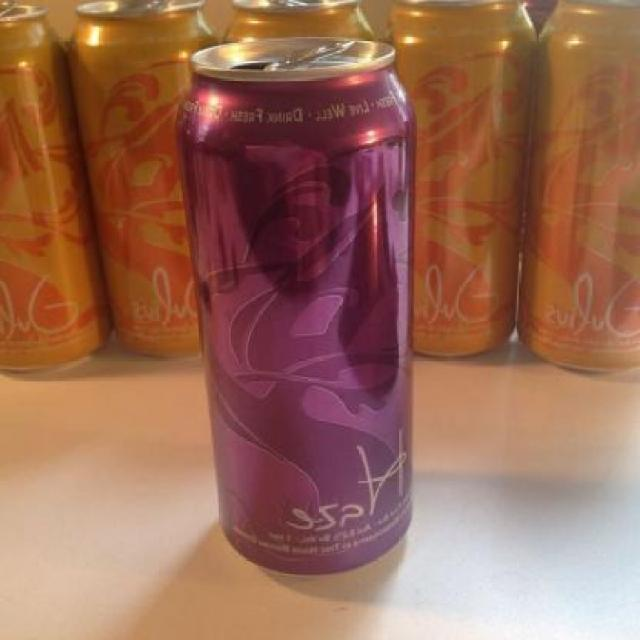can: (166, 31, 417, 577)
